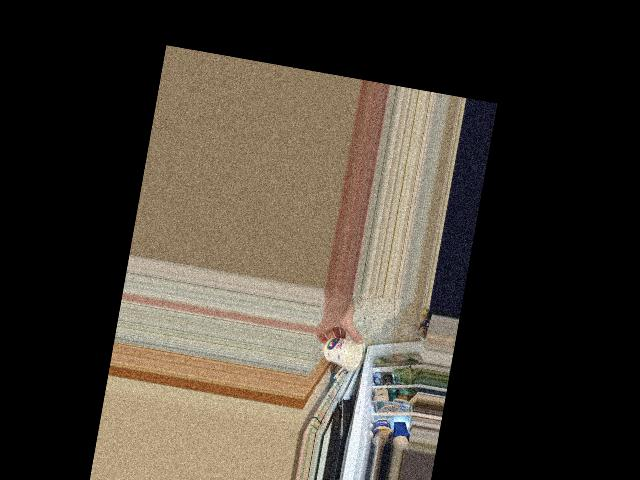cotage: (323, 334, 366, 371)
